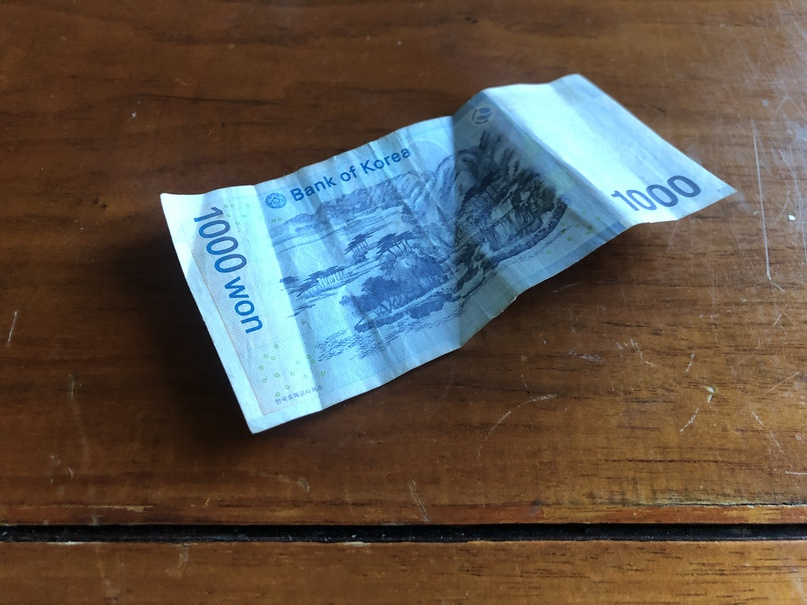1000won: (160, 72, 740, 436)
